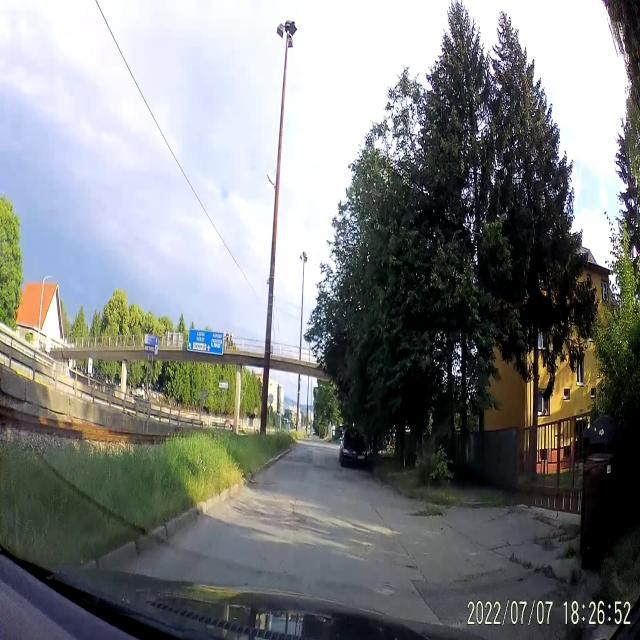Pothole: (373, 576, 398, 600)
